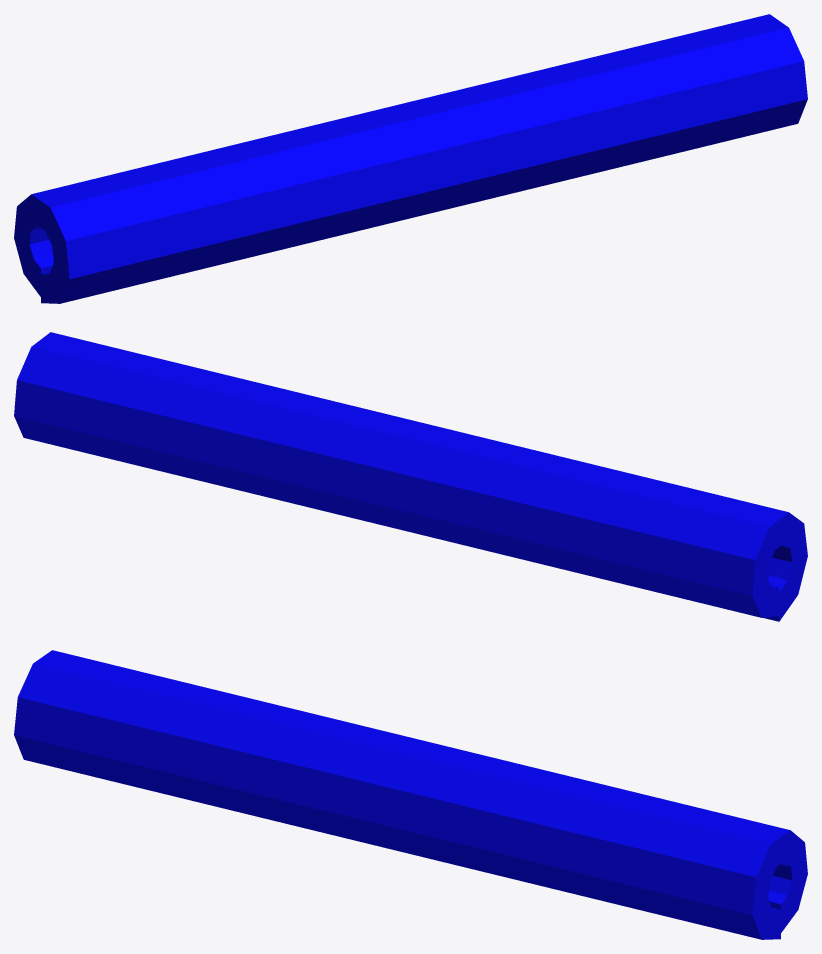
The model's file is BlueMat.fbx.
3 views of the same model, one above another, from view 1: azimuth 30°, elevation 25°; view 2: azimuth 150°, elevation 25°; view 3: azimuth 330°, elevation 25° (orthographic).
Visible parts, largest first — view 1: BlueMat; view 2: BlueMat; view 3: BlueMat.
Part boxes in pixels (x1=…): BlueMat: x1=14, y1=14, x2=807, y2=303; BlueMat: x1=14, y1=332, x2=807, y2=621; BlueMat: x1=14, y1=650, x2=807, y2=939.
Bounding box in the file's own units: 78.8 × 10.46 × 10.29.
